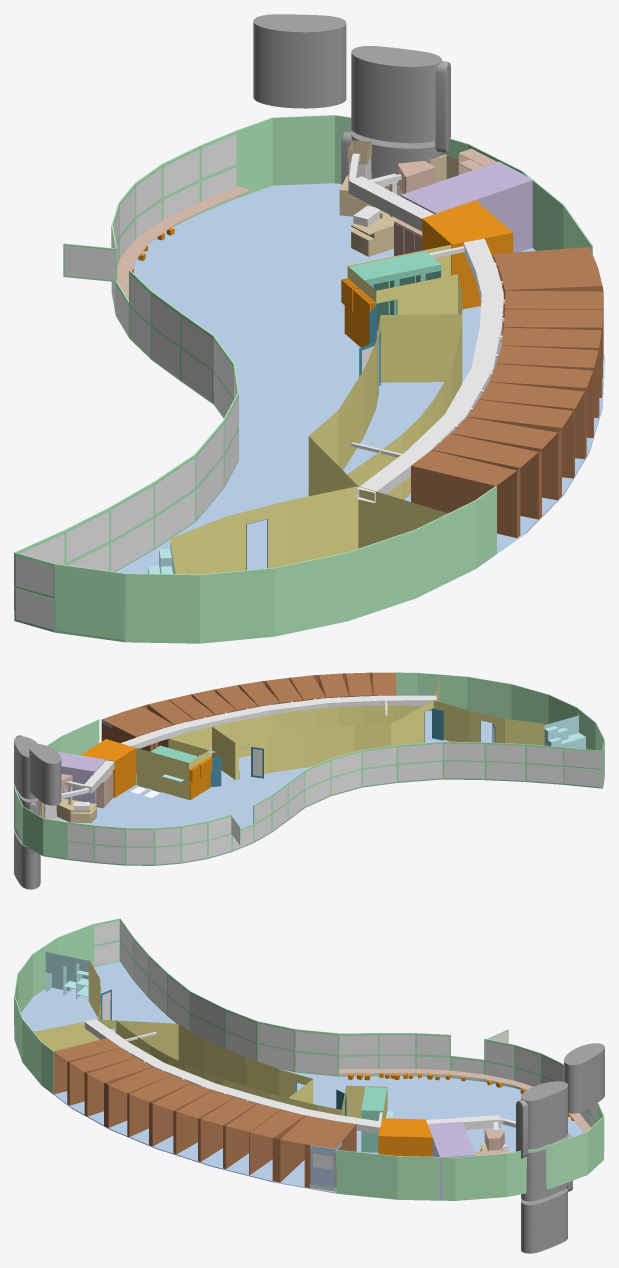
Rendered from Shared-Facilities-1.glb.
3 renders of one model, top to bottom at view 1: azimuth 30°, elevation 25°; view 2: azimuth 150°, elevation 25°; view 3: azimuth 270°, elevation 25°, orthographic. The views are drawn at different scales.
Parts seen in each view (by area): view 1: Walls, Showers, Internal-Walls, GrayWater, Vents, DrinkingWater, Kitchen-funtiture, Fridge-and-Cold-Room, Utility-Room, Bathroom-Stalls, Dining-Bar, Folding-Tables (+1 smaller); view 2: Walls, Internal-Walls, Showers, Vents, GrayWater, DrinkingWater, Utility-Room, Kitchen-funtiture, Fridge-and-Cold-Room, Stairs-Main, Folding-Tables, Cabinets (+4 smaller); view 3: Walls, Showers, Internal-Walls, GrayWater, Vents, DrinkingWater, Utility-Room, Stairs-Main, Fridge-and-Cold-Room, Dining-Bar, Shower-Cubicle, Bathroom-Stalls (+2 smaller).
Part boxes in pixels (x1,y1,x2,y2): Walls: (14,115,604,643); Showers: (411,247,603,537); Internal-Walls: (170,245,462,574); GrayWater: (341,46,450,185); Vents: (348,153,504,502); DrinkingWater: (253,14,346,108); Kitchen-funtiture: (339,140,496,256); Fridge-and-Cold-Room: (400,161,532,252); Utility-Room: (422,200,513,309); Bathroom-Stalls: (349,251,441,342); Dining-Bar: (117,186,250,299); Folding-Tables: (341,278,375,347); Walls: (15,672,604,865); Internal-Walls: (136,676,544,799); Showers: (101,672,396,773); Vents: (61,695,436,804); GrayWater: (14,735,40,889); DrinkingWater: (29,744,61,805); Utility-Room: (80,739,136,797); Kitchen-funtiture: (40,773,96,822); Fridge-and-Cold-Room: (57,751,105,807); Stairs-Main: (544,715,585,749); Folding-Tables: (189,757,212,799); Cabinets: (96,771,113,808); Walls: (14,918,604,1200); Showers: (54,1038,356,1191); Internal-Walls: (34,959,393,1118); GrayWater: (516,1081,572,1253); Vents: (84,1018,515,1133); DrinkingWater: (564,1043,604,1113); Utility-Room: (378,1118,432,1156); Stairs-Main: (45,952,101,1001); Fridge-and-Cold-Room: (427,1121,475,1199); Dining-Bar: (338,1069,590,1132); Shower-Cubicle: (310,1142,341,1191); Bathroom-Stalls: (361,1087,387,1152).
Size of what is drawn, in the model's own units: 31.79 by 10.5 by 33.19.
